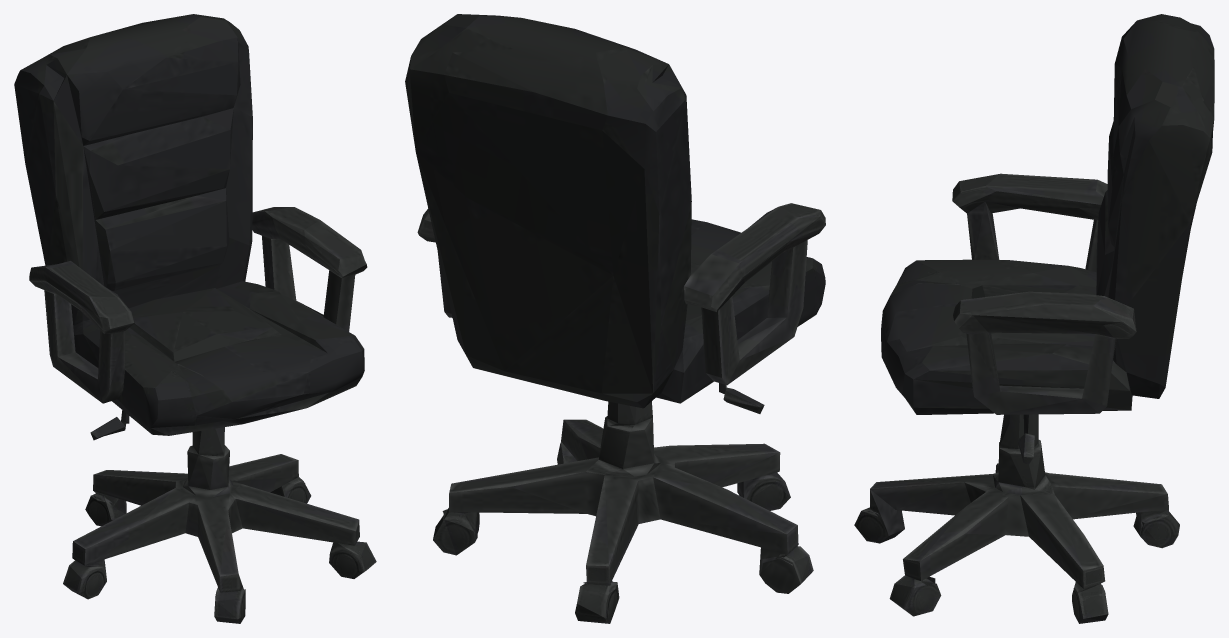
File: cadeira_escritorio.glb
The picture shows the model from 3 angles, left to right: view 1: azimuth 30°, elevation 25°; view 2: azimuth 150°, elevation 25°; view 3: azimuth 270°, elevation 25°; orthographic projection. The views are drawn at different scales.
Parts seen in each view (by area): view 1: Mesh_0; view 2: Mesh_0; view 3: Mesh_0.
Boxes of the visible parts, x1,y1,x2,y2 form: Mesh_0: (14, 14, 376, 623); Mesh_0: (405, 14, 825, 623); Mesh_0: (854, 14, 1214, 623).
Size of the model in its own units: 0.6601 by 1.1 by 0.7028.
1 material, 1 textured.
